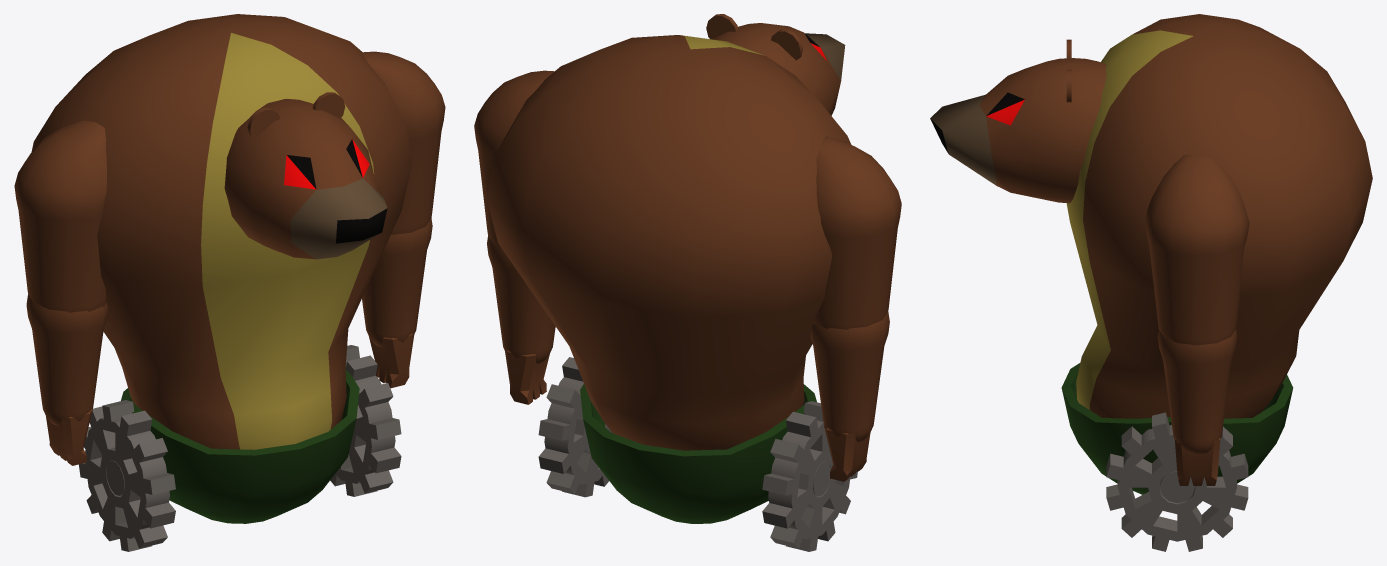
File: Modé_Ours.FBX
The picture shows the model from 3 angles, left to right: view 1: azimuth 30°, elevation 25°; view 2: azimuth 150°, elevation 25°; view 3: azimuth 270°, elevation 25°; orthographic projection. The views are drawn at different scales.
Parts seen in each view (by area): view 1: Torse, Tête, Rouages, Bras D, Socle, Bras D2, Bras G, Bras G2, Main_G, Main_D; view 2: Torse, Rouages, Socle, Bras D, Bras D2, Tête, Bras G2, Bras G, Main_G, Main_D; view 3: Torse, Tête, Bras G, Rouages, Bras G2, Socle, Main_G.
Boxes of the visible parts, x1,y1,x2,y2 form: Torse: (31, 14, 411, 449); Tête: (224, 92, 387, 259); Rouages: (79, 345, 401, 551); Bras D: (14, 120, 106, 312); Socle: (121, 366, 359, 523); Bras D2: (26, 294, 108, 426); Bras G: (363, 51, 445, 234); Bras G2: (362, 218, 432, 347); Main_G: (369, 333, 414, 388); Main_D: (46, 409, 92, 465); Torse: (486, 35, 851, 450); Rouages: (538, 357, 857, 551); Socle: (580, 384, 816, 523); Bras D: (813, 136, 901, 329); Bras D2: (810, 312, 889, 442); Tête: (706, 14, 845, 115); Bras G2: (487, 236, 555, 364); Bras G: (474, 70, 554, 247); Main_G: (504, 348, 549, 404); Main_D: (824, 425, 870, 481); Torse: (1066, 14, 1372, 418); Tête: (930, 39, 1106, 203); Bras G: (1145, 154, 1249, 345); Rouages: (1106, 412, 1248, 551); Bras G2: (1157, 329, 1237, 454); Socle: (1061, 363, 1293, 494); Main_G: (1174, 438, 1220, 485).
Bounding box in the file's own units: 92.03 × 101 × 88.25.
